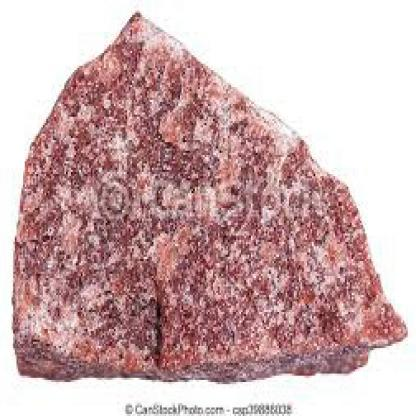Metamorphic_Quartize: (106, 102, 308, 325)
